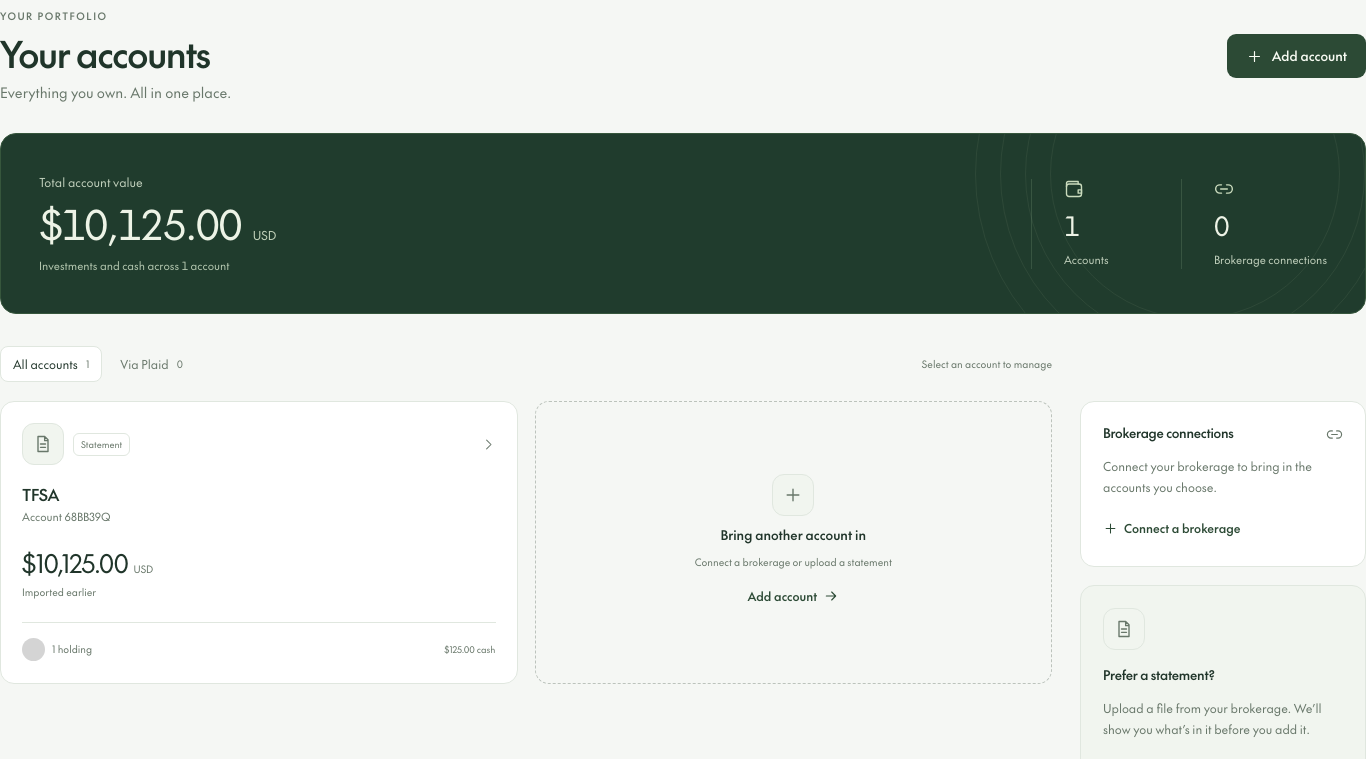
Test case: account registration settings › prefills from Plaid and offers exactly the requested registration types without saving the guess
This screenshot has width=1366, height=759.
Step 1. Click the button with aria-label "Manage account 68BB39Q" → {"x": 43, "y": 444}, box [0, 401, 518, 684]
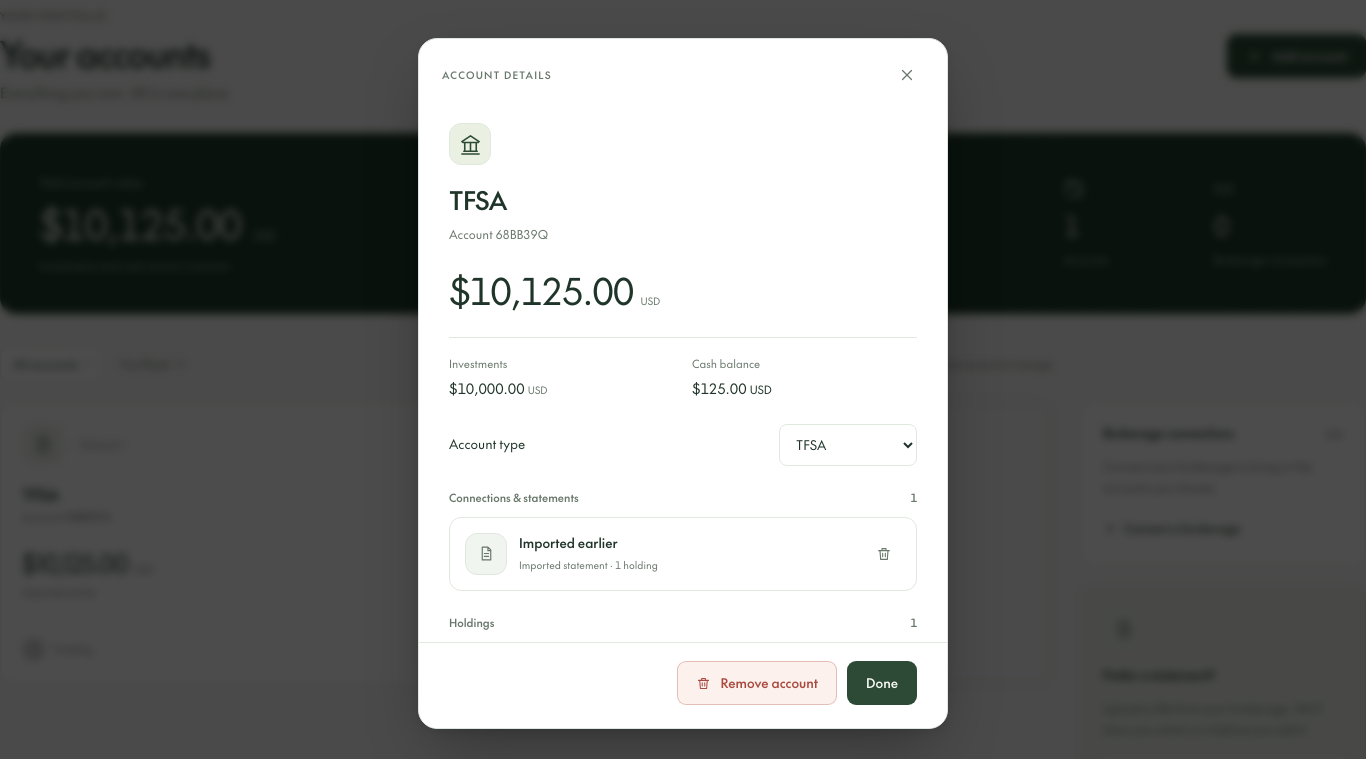
Now the dropdown labelled "Account type" is enabled, box [779, 424, 917, 466]
Now the dropdown labelled "Account type" shows "TFSA", box [779, 424, 917, 466]
